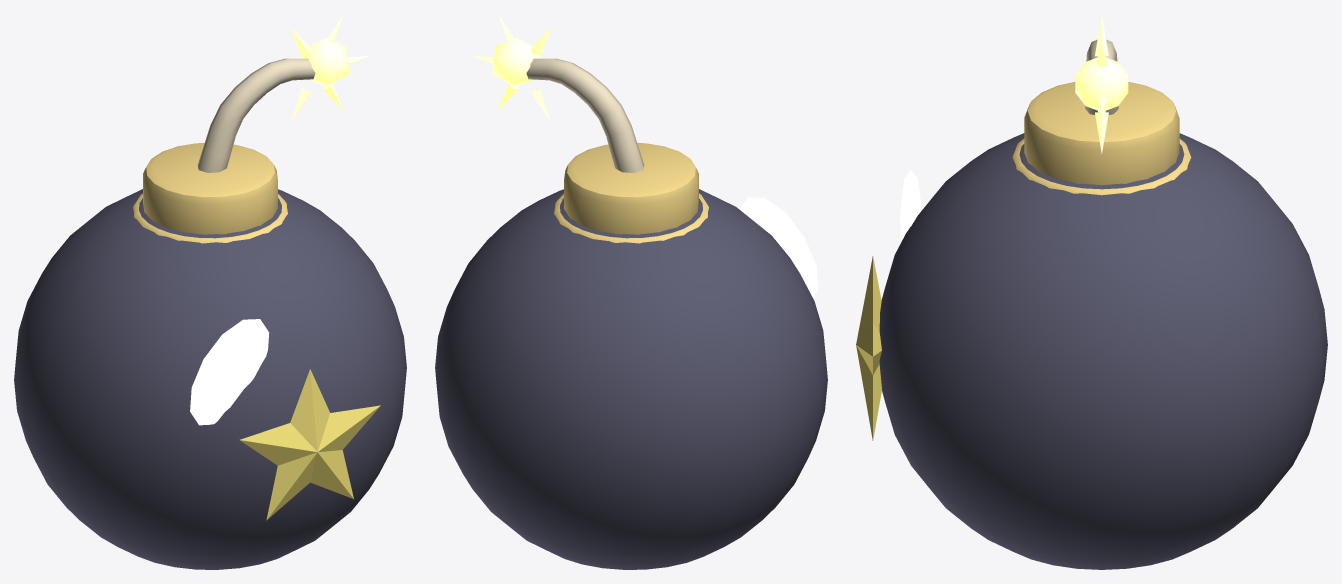
The model's file is bomb_bonus.glb.
3 views of the same model, side by side, from view 1: azimuth 30°, elevation 25°; view 2: azimuth 150°, elevation 25°; view 3: azimuth 270°, elevation 25° (orthographic). The views are drawn at different scales.
Parts seen in each view (by area): view 1: bomb_bonus, spark; view 2: bomb_bonus, spark; view 3: bomb_bonus, spark.
Boxes of the visible parts, x1=… form: bomb_bonus: x1=14, y1=58, x2=406, y2=569; spark: x1=290, y1=14, x2=369, y2=122; bomb_bonus: x1=435, y1=58, x2=827, y2=569; spark: x1=472, y1=14, x2=551, y2=122; bomb_bonus: x1=856, y1=39, x2=1327, y2=569; spark: x1=1075, y1=14, x2=1128, y2=153.
Size of the model in its own units: 0.32 by 0.4533 by 0.334.
